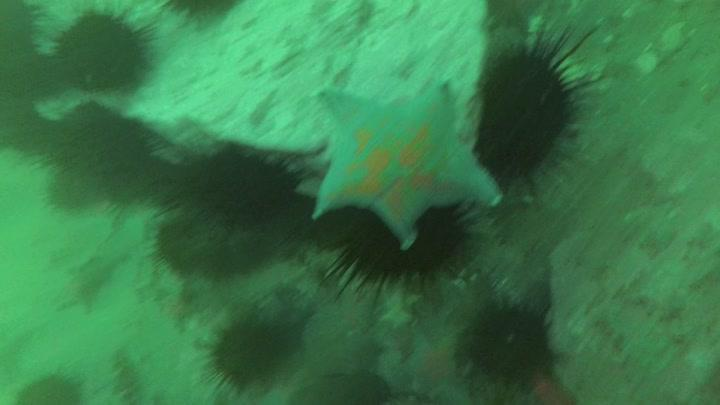urchin: (483, 28, 600, 195), (321, 212, 477, 294), (173, 146, 301, 236), (47, 9, 150, 101), (453, 299, 563, 385), (36, 103, 147, 182), (194, 315, 292, 392), (152, 216, 229, 275), (11, 366, 92, 405)
